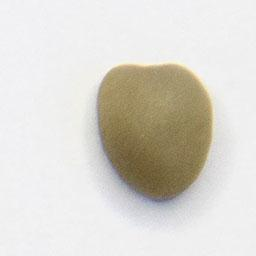premium: (93, 61, 217, 204)
